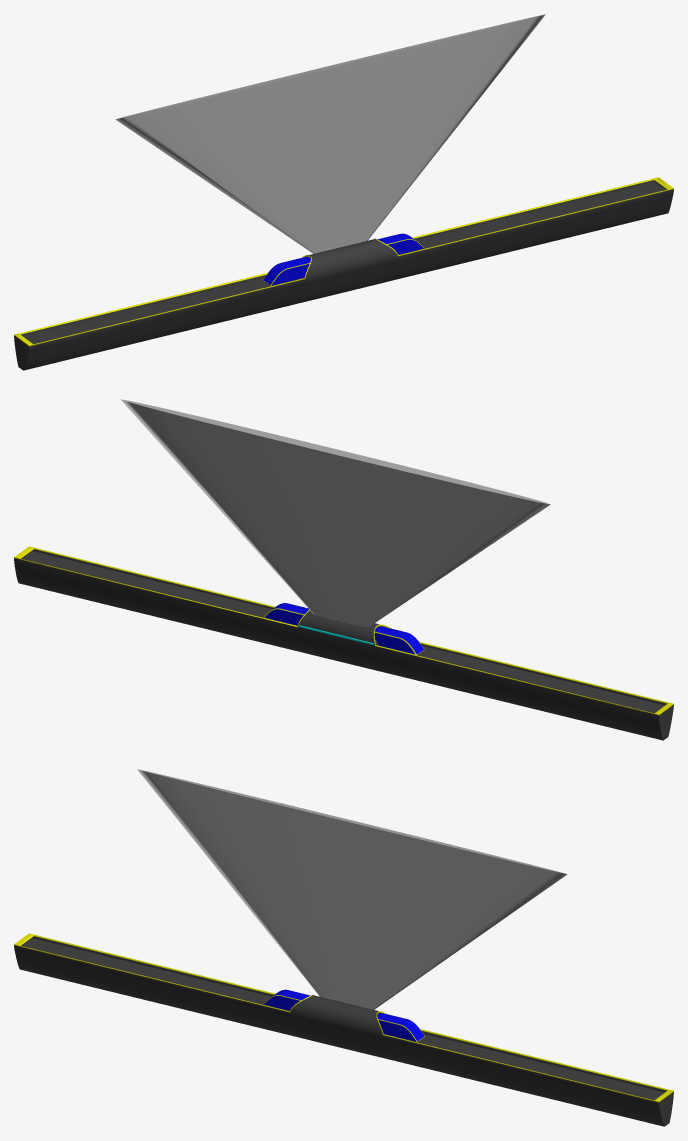
The picture shows the model from 3 angles, top to bottom: view 1: azimuth 30°, elevation 25°; view 2: azimuth 150°, elevation 25°; view 3: azimuth 330°, elevation 25°; orthographic projection.
Visible parts, largest first — view 1: Volume, base, L, R; view 2: Volume, base, L, R; view 3: Volume, base, R, L.
Part boxes in pixels (x1,y1,x2,y2): Volume: (115,14,545,253); base: (14,177,673,370); L: (263,257,310,285); R: (377,233,423,254); Volume: (120,399,550,627); base: (14,546,673,740); L: (374,626,424,655); R: (263,603,308,625); Volume: (137,769,567,1009); base: (14,933,673,1126); R: (377,1013,424,1041); L: (263,989,310,1010).
Size of the model in its own units: 49.38 by 15.9 by 2.73.
